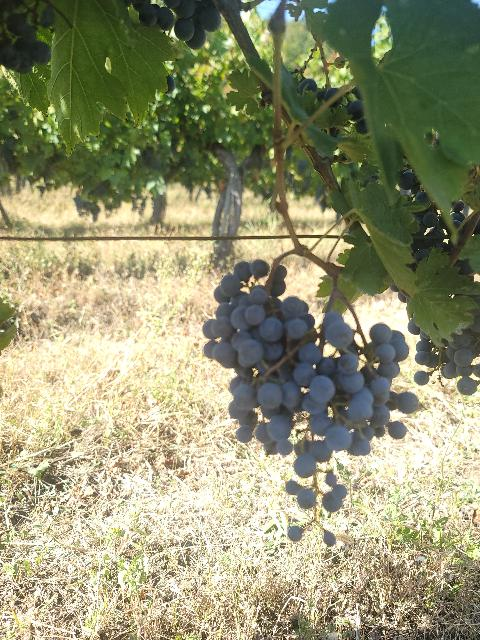grapes: (266, 311, 419, 479), (202, 260, 315, 382)
